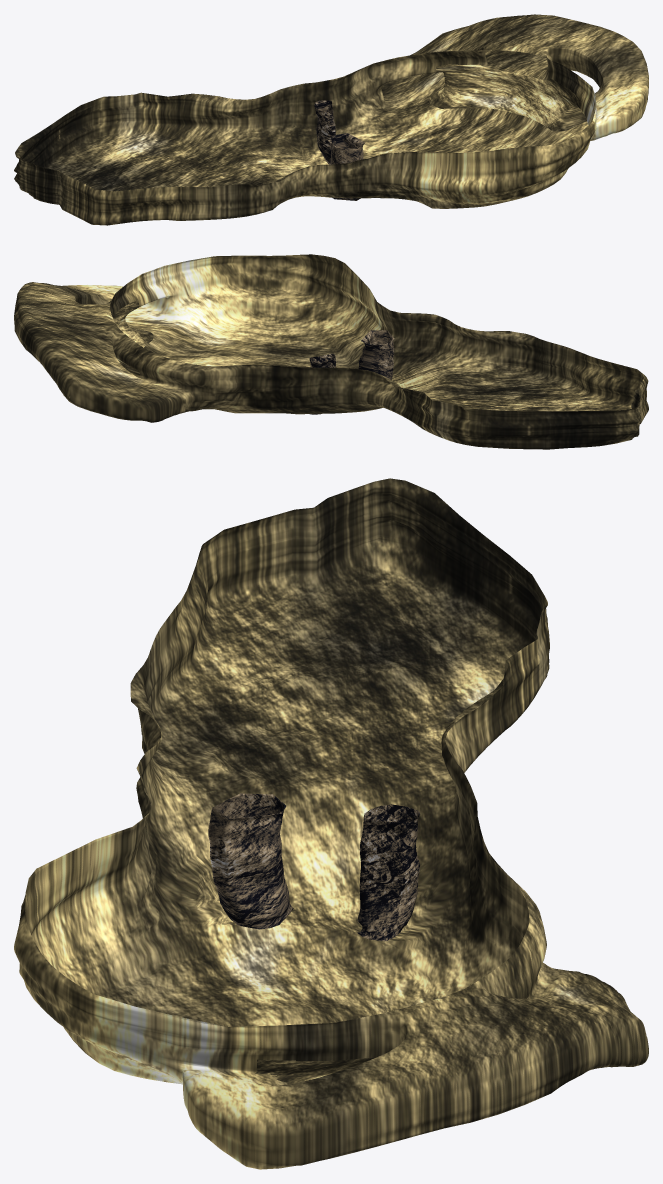
The model's file is Level_1_test_2 (textured) 1.fbx.
3 views of the same model, one above another, from view 1: azimuth 30°, elevation 25°; view 2: azimuth 150°, elevation 25°; view 3: azimuth 270°, elevation 25° (orthographic). The views are drawn at different scales.
Parts seen in each view (by area): view 1: polySurface1; view 2: polySurface1; view 3: polySurface1.
Boxes of the visible parts, x1,y1,x2,y2 form: polySurface1: (14, 14, 648, 225); polySurface1: (14, 254, 648, 449); polySurface1: (14, 478, 648, 1169).
Bounding box in the file's own units: 15.58 × 2.22 × 7.33.
2 materials, 2 textured.
